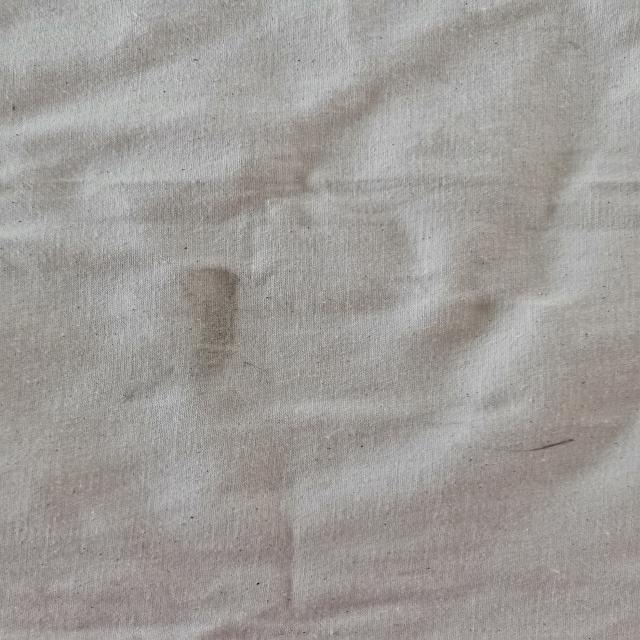taaaches: (170, 263, 240, 398), (479, 439, 582, 454), (110, 382, 168, 407), (245, 359, 272, 376)
